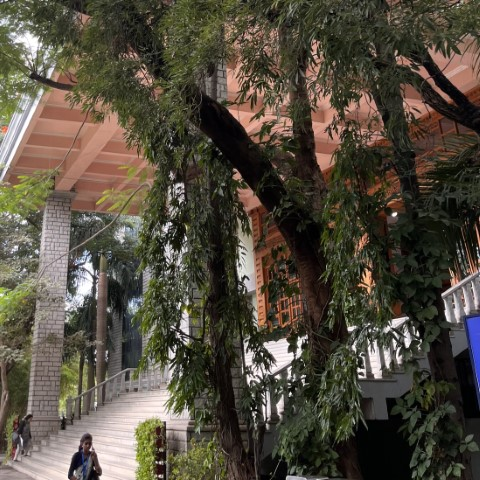Central Block: (7, 46, 217, 480)
